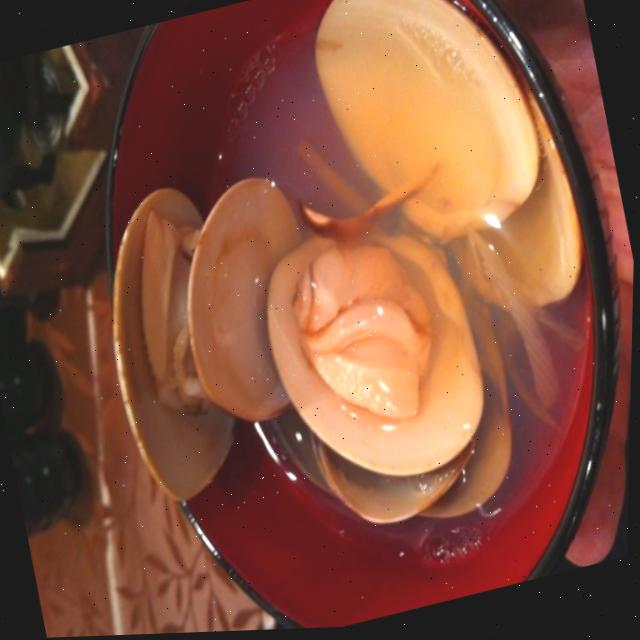汤锅炖物: (44, 0, 640, 638)
